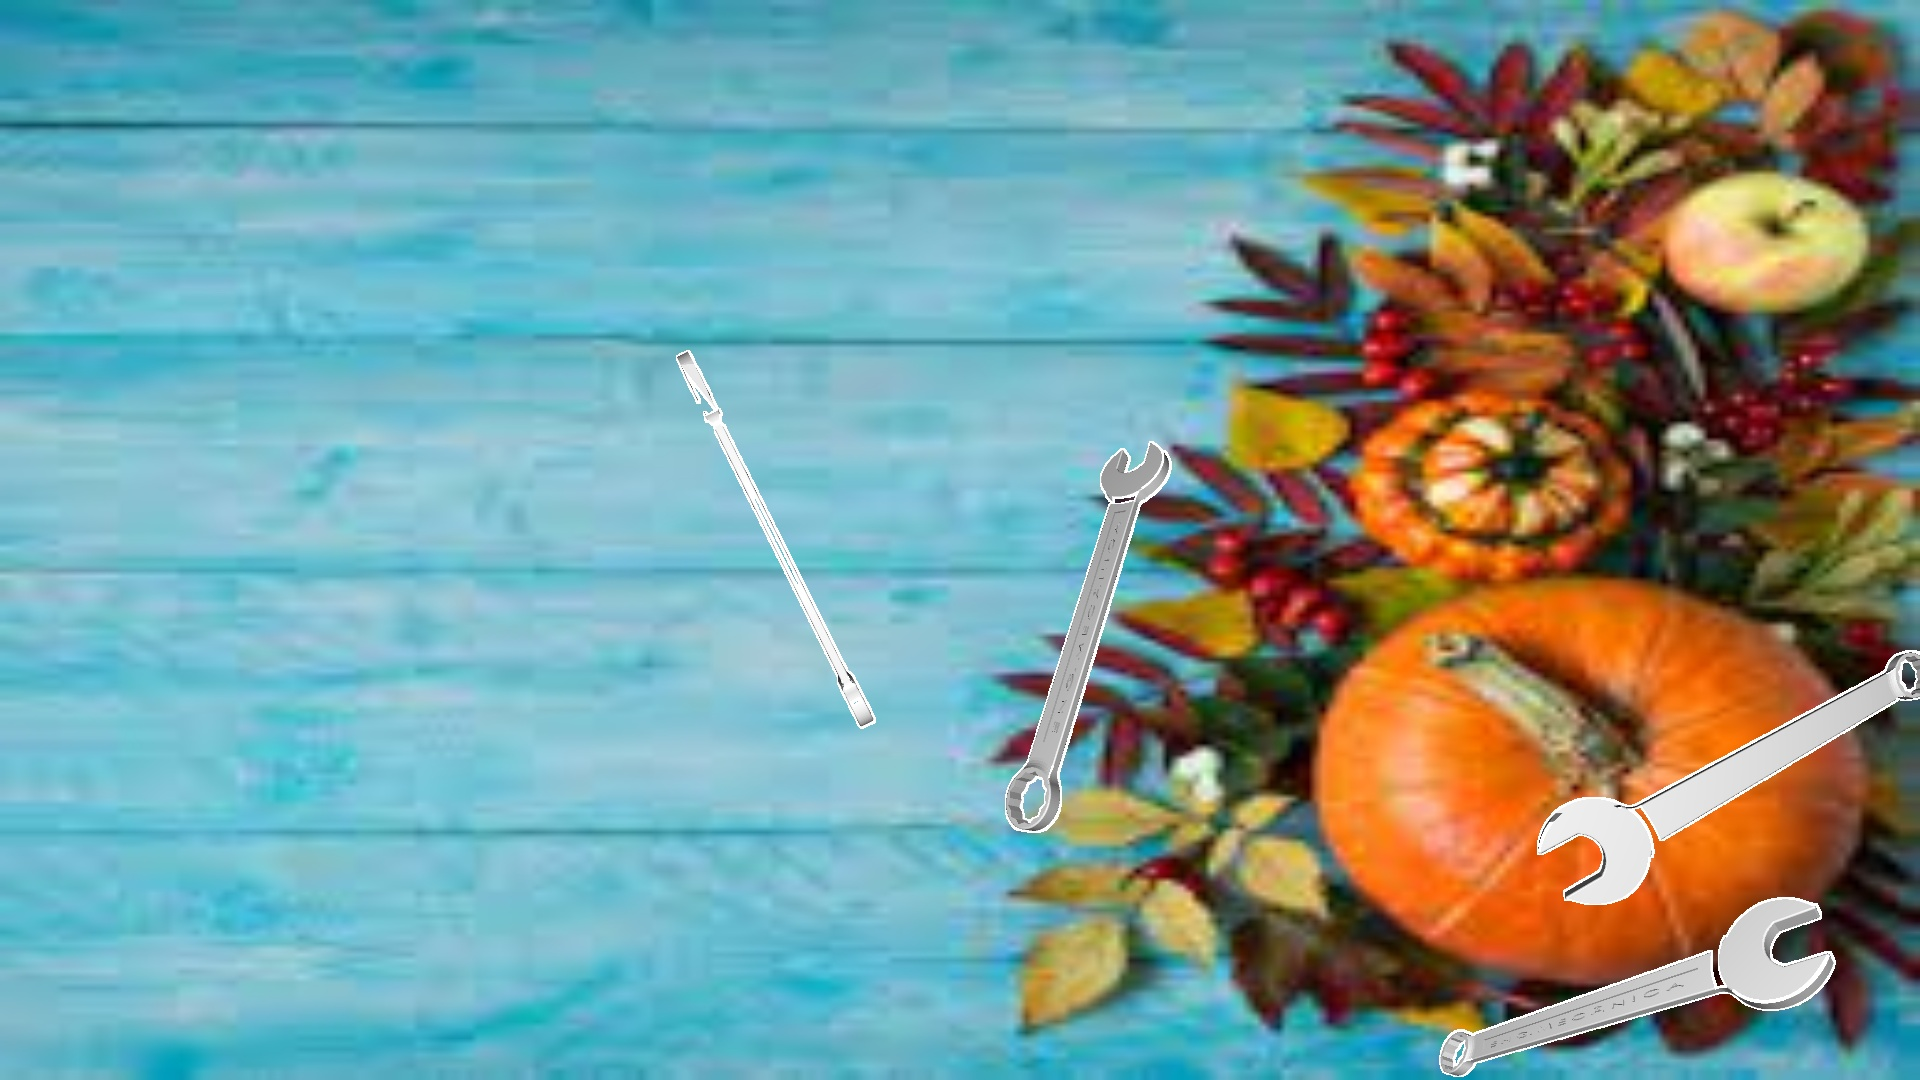Mixed Key: (1538, 650, 1919, 905), (676, 349, 876, 728), (1439, 897, 1836, 1076), (1005, 440, 1171, 832)
